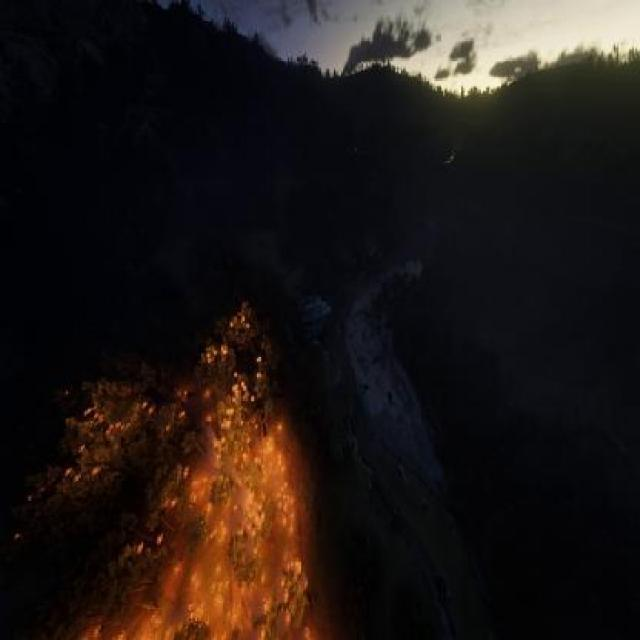Fire: (29, 292, 348, 640)
